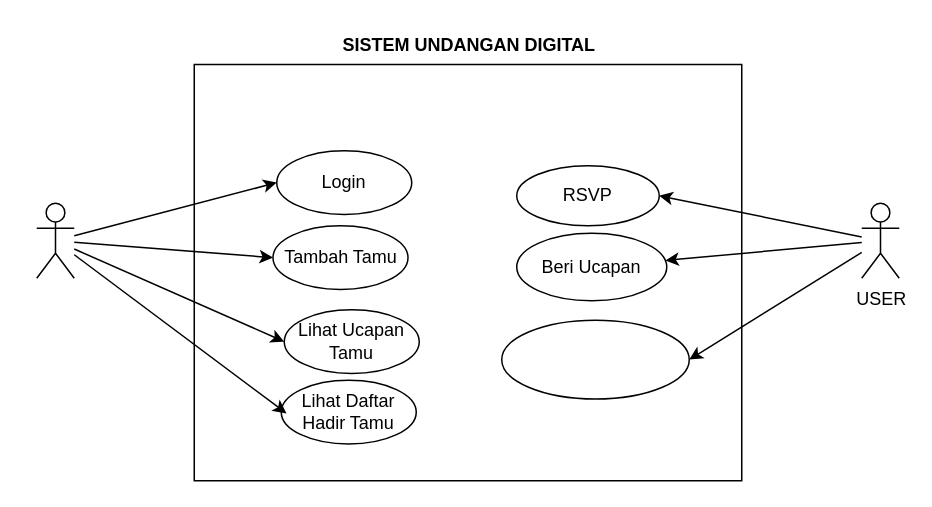
Image size: 932x507. Some labels were removed from this diagram. Each missing label, with the centre of its shape:
"ADMIN" goes at pixel 54 240.
"Ingatkan Saya" goes at pixel 594 359.
